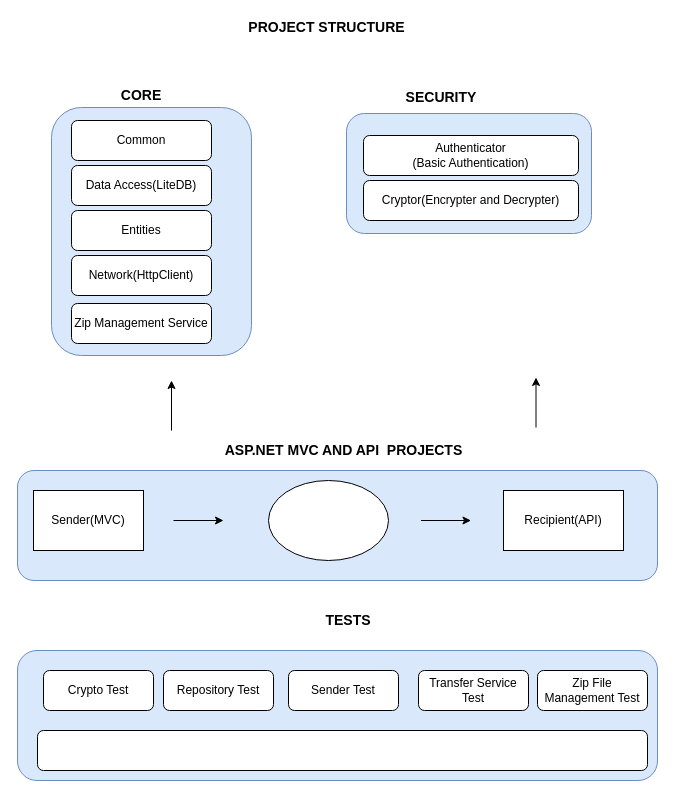
This 675x798 diagram has some shape labels left out. The shapes that lost their labels are listed below. From the top down, each one's centre as x and y in pixels, then its label:
(328,520): TransferService
(342,750): NUnit - Substitute
